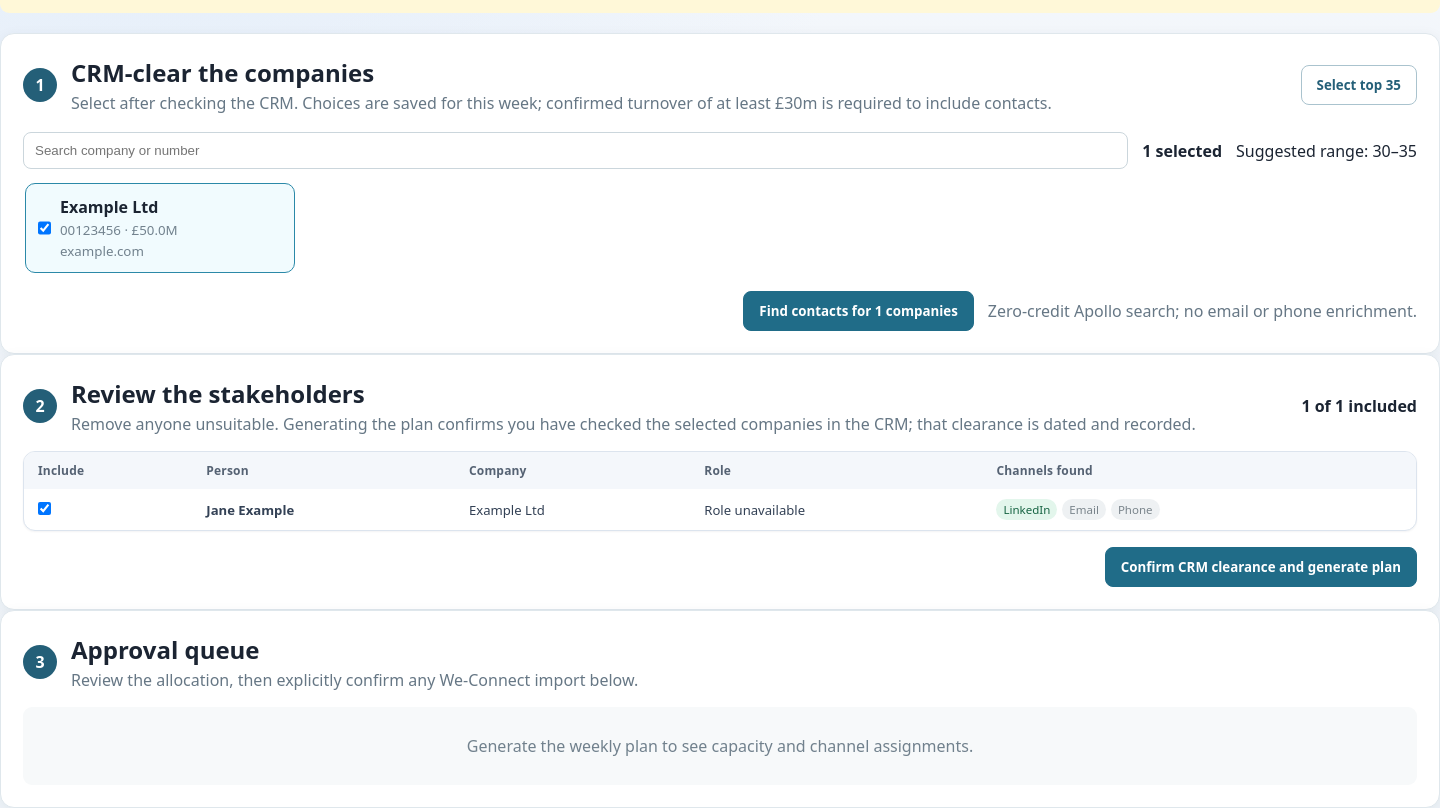
Saved outreach review › excludes contacts when their company is removed and invalidates any previous plan
(page scrolled)
Expected: the checkbox named "Include Jane Example" is shown, left=38, top=502, right=51, bottom=514
Click the button "Confirm CRM clearance and generate plan". click: [1261, 567]
box: left=1105, top=547, right=1417, bottom=587
(page scrolled)
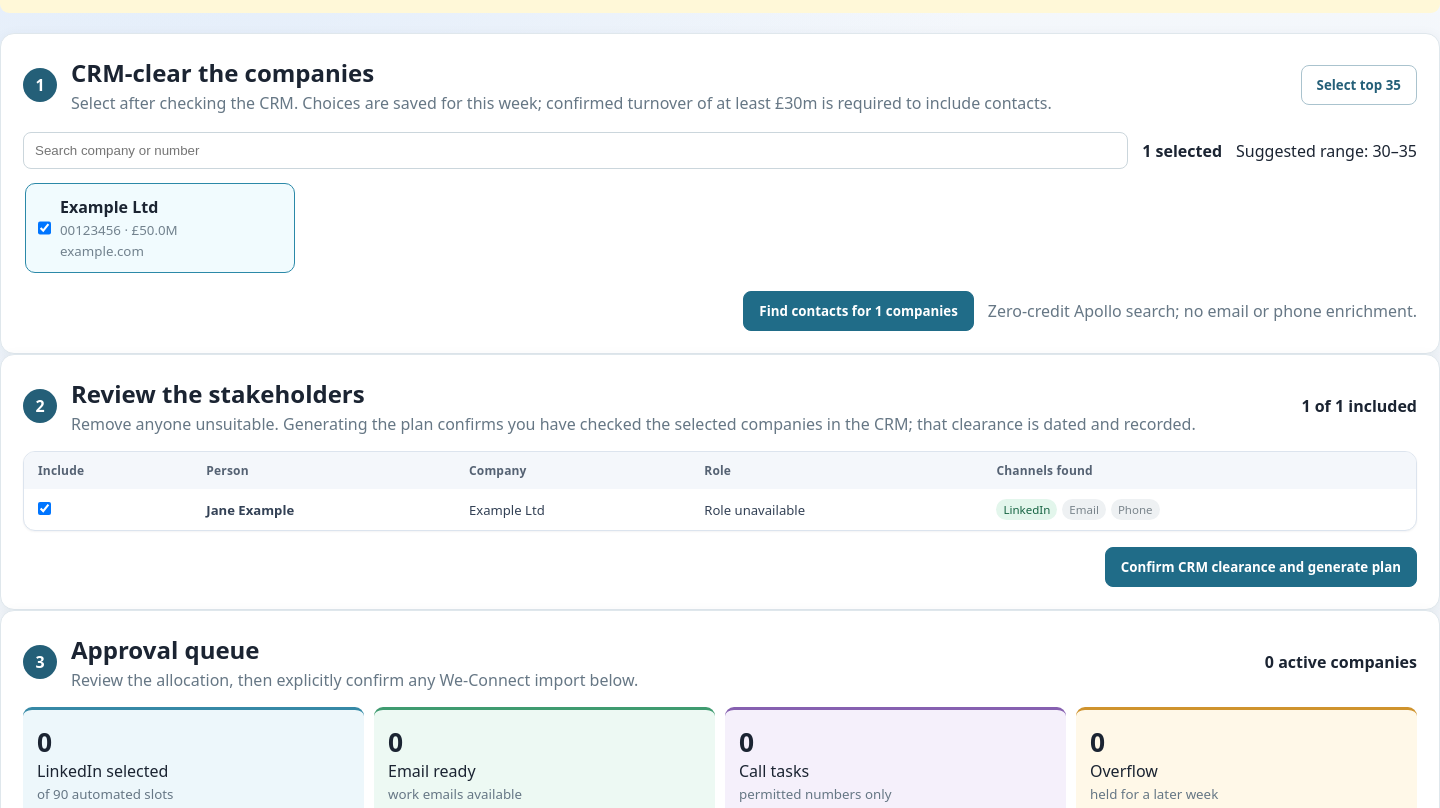
Click the checkbox labelled "Example Ltd 00123456 · £50.0M example.com". click: [44, 228]
box: left=38, top=196, right=51, bottom=260
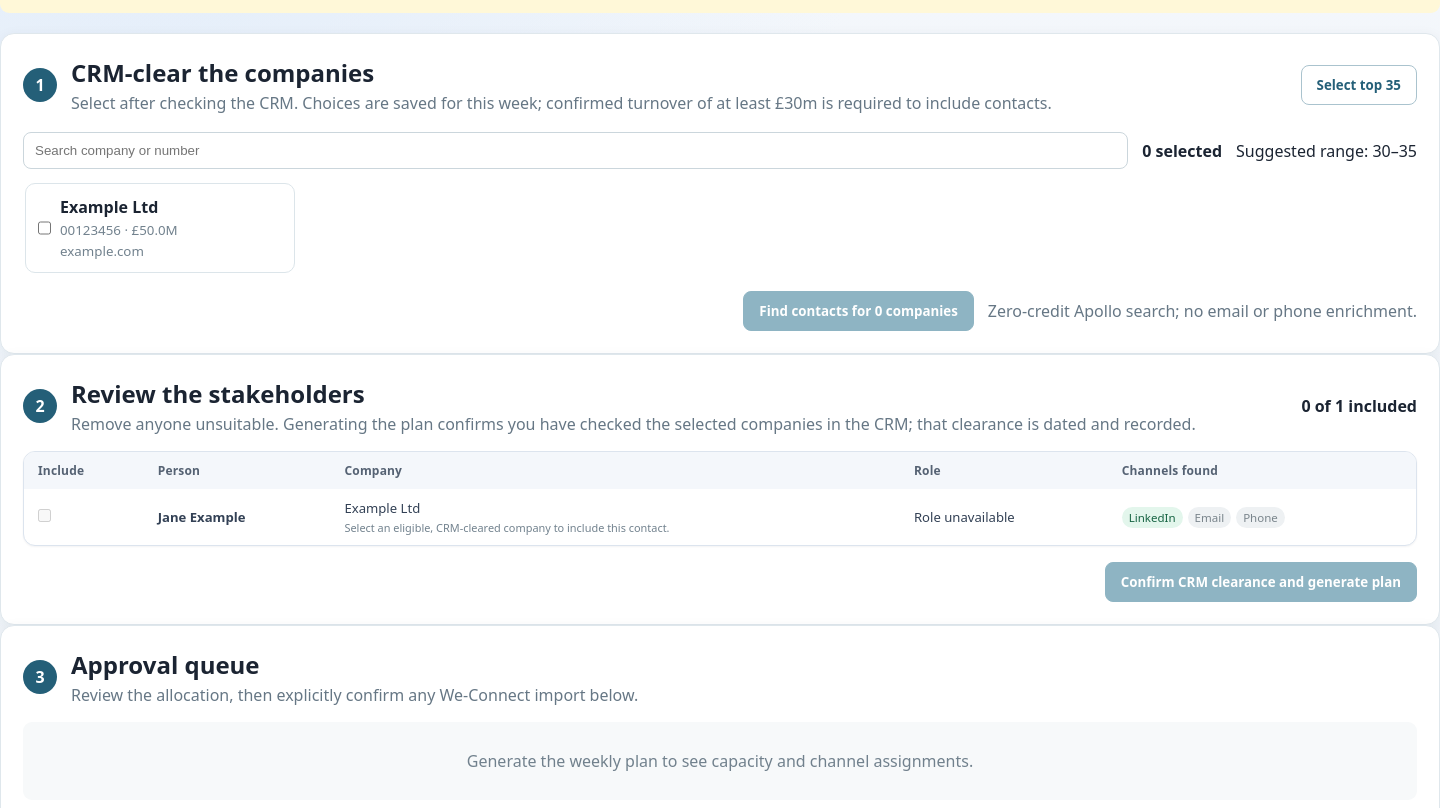
Now the button "Confirm CRM clearance and generate plan" is disabled, box left=1105, top=562, right=1417, bottom=602
Now the checkbox named "Include Jane Example" is disabled, box left=38, top=509, right=51, bottom=522
Now the checkbox named "Include Jane Example" is not checked, box left=38, top=509, right=51, bottom=522
